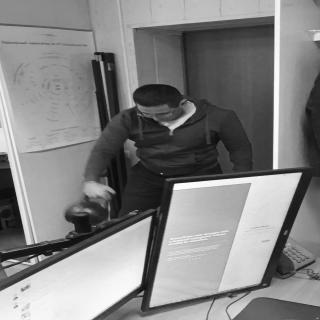kettlebell: (63, 193, 115, 226)
